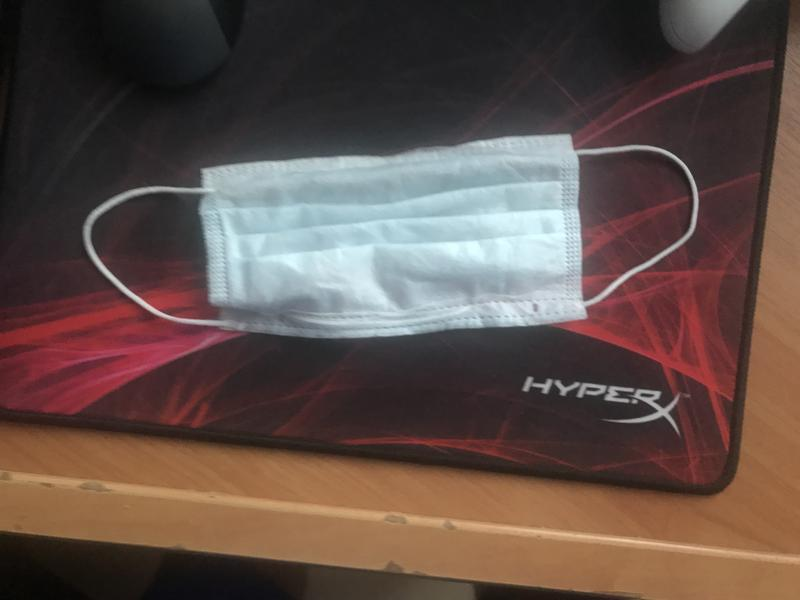medical_mask: (80, 134, 699, 337)
